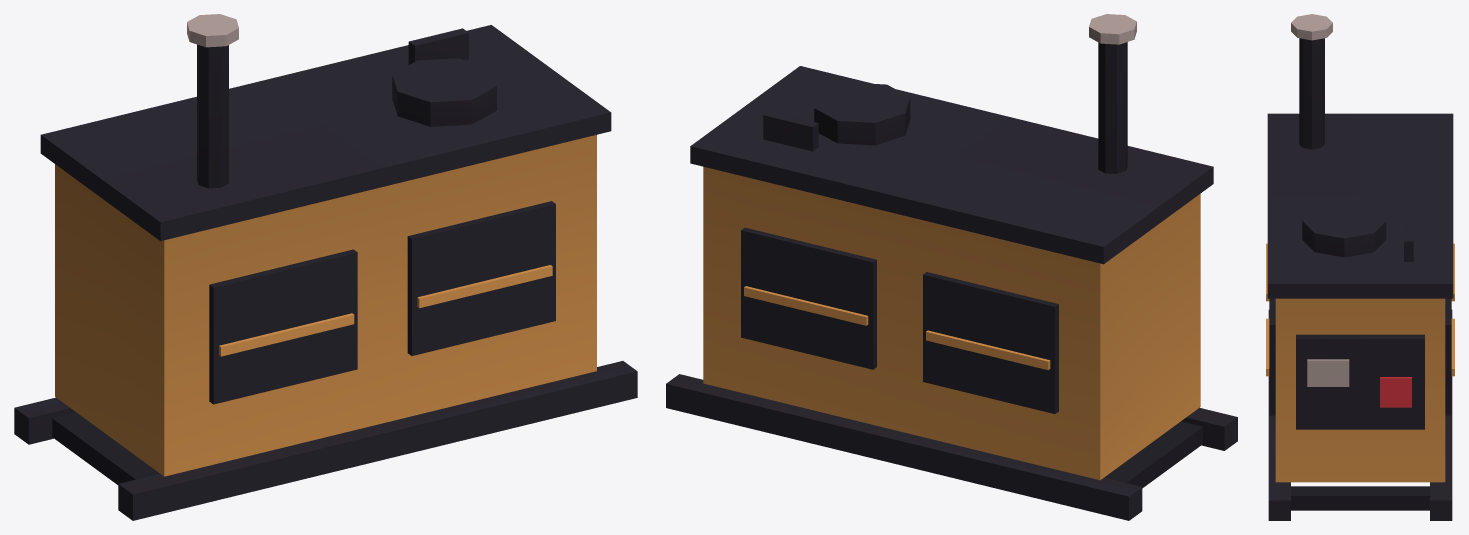
The model's file is prop.cure-generator.lod1.glb.
3 views of the same model, side by side, from view 1: azimuth 30°, elevation 25°; view 2: azimuth 150°, elevation 25°; view 3: azimuth 270°, elevation 25° (orthographic). The views are drawn at different scales.
Visible parts, largest first — view 1: body; view 2: body; view 3: body.
Boxes of the visible parts, x1,y1,x2,y2 form: body: (14, 14, 637, 520); body: (666, 14, 1237, 520); body: (1266, 14, 1454, 520).
Bounding box in the file's own units: 2.8 × 2.38 × 1.17.
